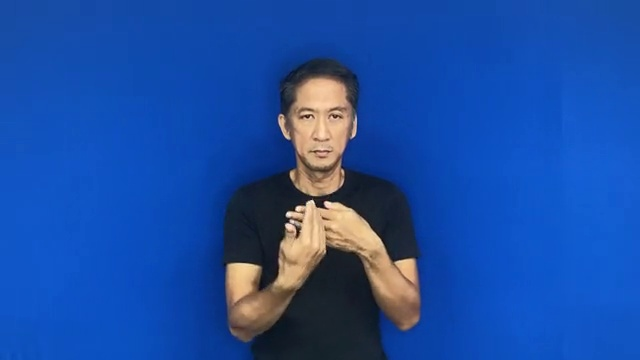bread: (274, 193, 390, 283)
